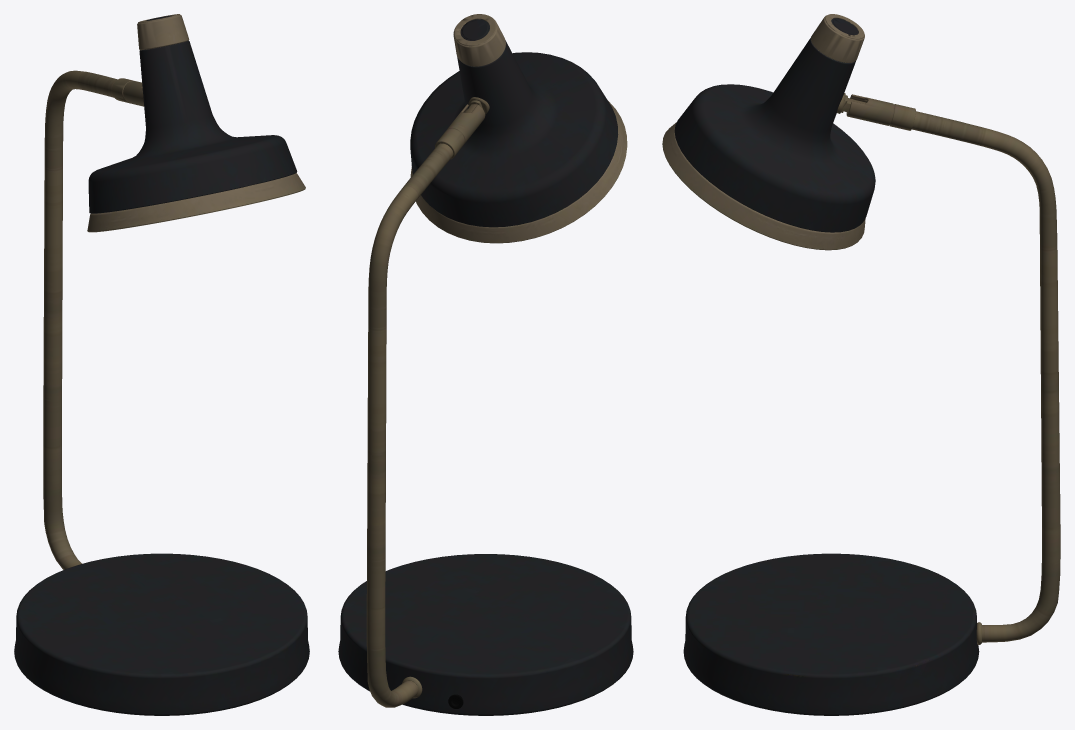
The model's file is B07B4YYC4V.glb.
The picture shows the model from 3 angles, left to right: view 1: azimuth 30°, elevation 25°; view 2: azimuth 150°, elevation 25°; view 3: azimuth 270°, elevation 25°; orthographic projection.
Visible parts, largest first — view 1: RootNode; view 2: RootNode; view 3: RootNode.
Boxes of the visible parts, bbox=[...] form: RootNode: bbox=[14, 14, 309, 715]; RootNode: bbox=[338, 14, 633, 715]; RootNode: bbox=[662, 14, 1060, 715].
Bounding box in the file's own units: 0.1616 × 0.3849 × 0.2176.
1 material, 1 textured.
